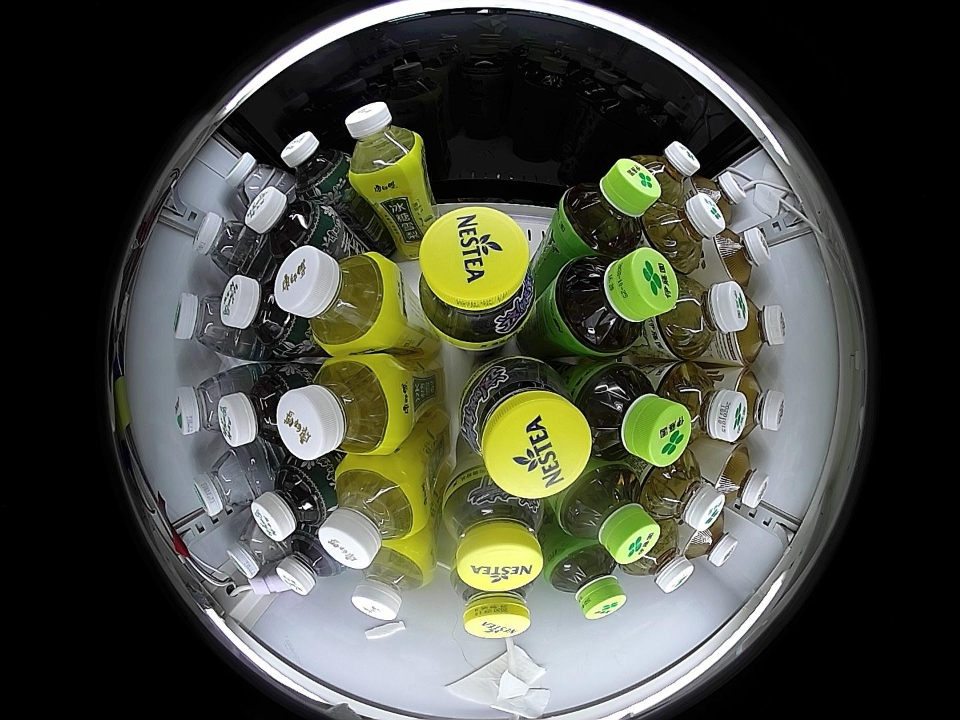baicha: (655, 278, 750, 361), (660, 362, 747, 444), (643, 192, 726, 272), (641, 456, 725, 531), (626, 524, 694, 593), (635, 141, 701, 203)
bingtangxueli: (278, 354, 408, 460), (275, 246, 402, 354), (318, 457, 428, 569), (345, 100, 425, 189), (352, 542, 433, 623)
chacui: (459, 358, 591, 499), (416, 204, 536, 350), (441, 472, 547, 591), (451, 567, 534, 638)
moliqingcha: (250, 459, 335, 541), (218, 367, 299, 449), (244, 187, 335, 258), (221, 274, 303, 351), (280, 130, 352, 199), (276, 532, 343, 596)
rancha-2: (725, 297, 787, 366), (726, 369, 786, 439), (708, 443, 770, 509), (710, 227, 772, 287), (691, 170, 748, 226), (682, 511, 739, 567)
yibao: (192, 448, 263, 518), (173, 290, 241, 358), (174, 369, 238, 438), (193, 212, 260, 277), (223, 152, 287, 212), (226, 517, 288, 578)
yitengyuan: (554, 247, 678, 356), (576, 363, 691, 466), (559, 464, 659, 564), (559, 158, 660, 254), (547, 543, 626, 621)
